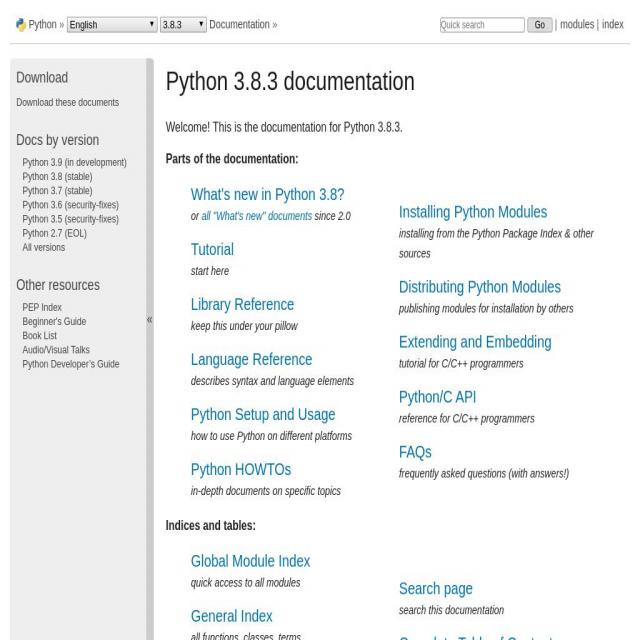download: (13, 64, 125, 118)
navigation-links: (187, 182, 592, 508), (174, 538, 586, 639), (18, 152, 130, 382)
options: (66, 15, 210, 30)
search: (434, 12, 555, 39)
